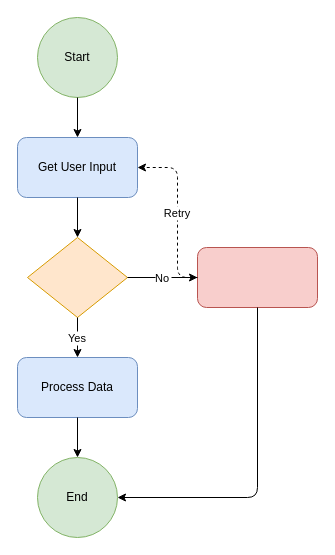
Some shapes in this 335 by 555 pixel diagram are drawn without their labels. The centre of each missing label's shape, as x and y in pixels:
Show Error: point 257,277
Valid Input?: point 77,277
